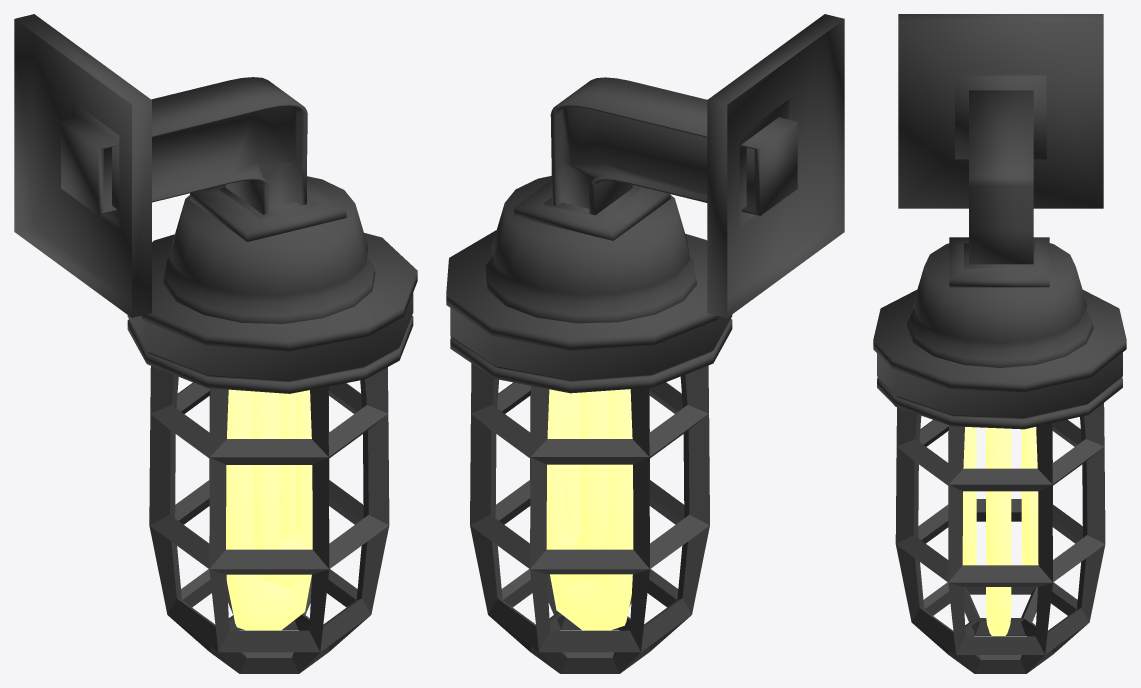
The model's file is light.fbx.
3 views of the same model, side by side, from view 1: azimuth 30°, elevation 25°; view 2: azimuth 150°, elevation 25°; view 3: azimuth 270°, elevation 25° (orthographic). The views are drawn at different scales.
Parts seen in each view (by area): view 1: Sphere.002; view 2: Sphere.002; view 3: Sphere.002.
Boxes of the visible parts, <box> form: Sphere.002: <box>14,14,417,673</box>; Sphere.002: <box>446,14,844,673</box>; Sphere.002: <box>873,14,1126,673</box>.
Size of the model in its own units: 202 by 382 by 157.
